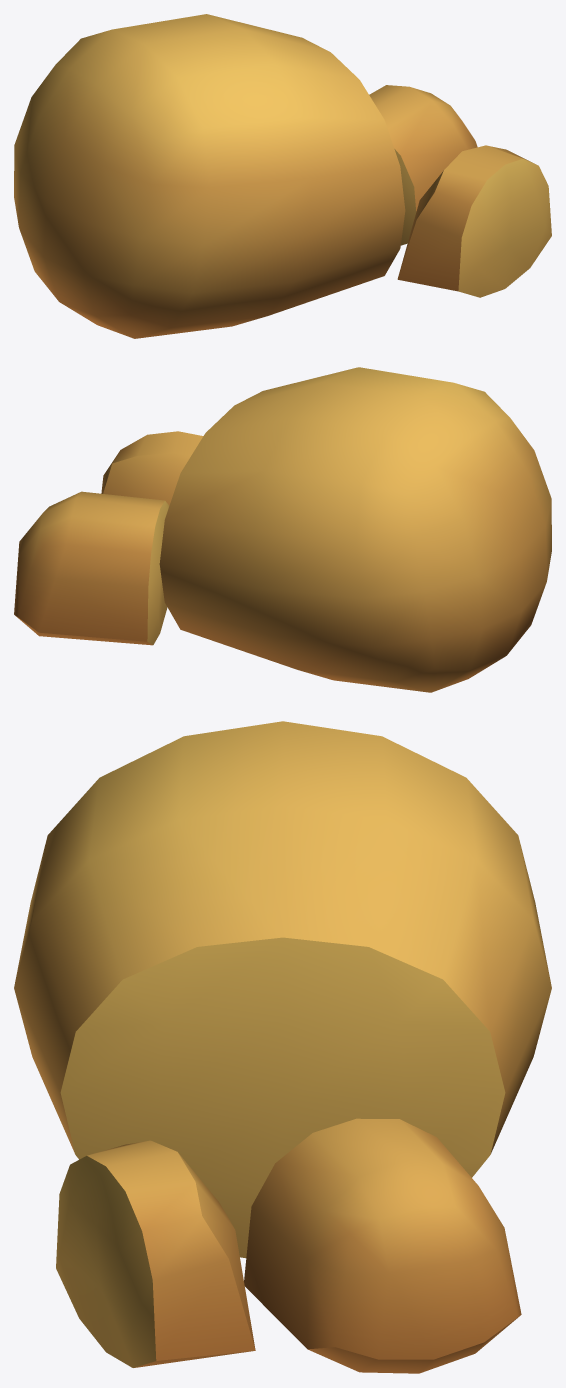
File: kay-food_ingredient_potato_chopped.glb
The picture shows the model from 3 angles, top to bottom: view 1: azimuth 30°, elevation 25°; view 2: azimuth 150°, elevation 25°; view 3: azimuth 270°, elevation 25°; orthographic projection. The views are drawn at different scales.
Parts seen in each view (by area): view 1: food_ingredient_potato_chopped; view 2: food_ingredient_potato_chopped; view 3: food_ingredient_potato_chopped.
Boxes of the visible parts, left/top/right/bottom form: food_ingredient_potato_chopped: left=14, top=14, right=551, bottom=338; food_ingredient_potato_chopped: left=14, top=367, right=551, bottom=692; food_ingredient_potato_chopped: left=14, top=721, right=551, bottom=1373.
Bounding box in the file's own units: 0.22 × 0.1261 × 0.1471.
Materials: 1 (1 with a texture image).
